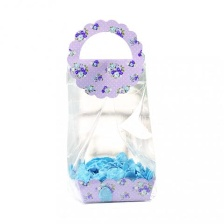snack: (57, 12, 162, 208)
